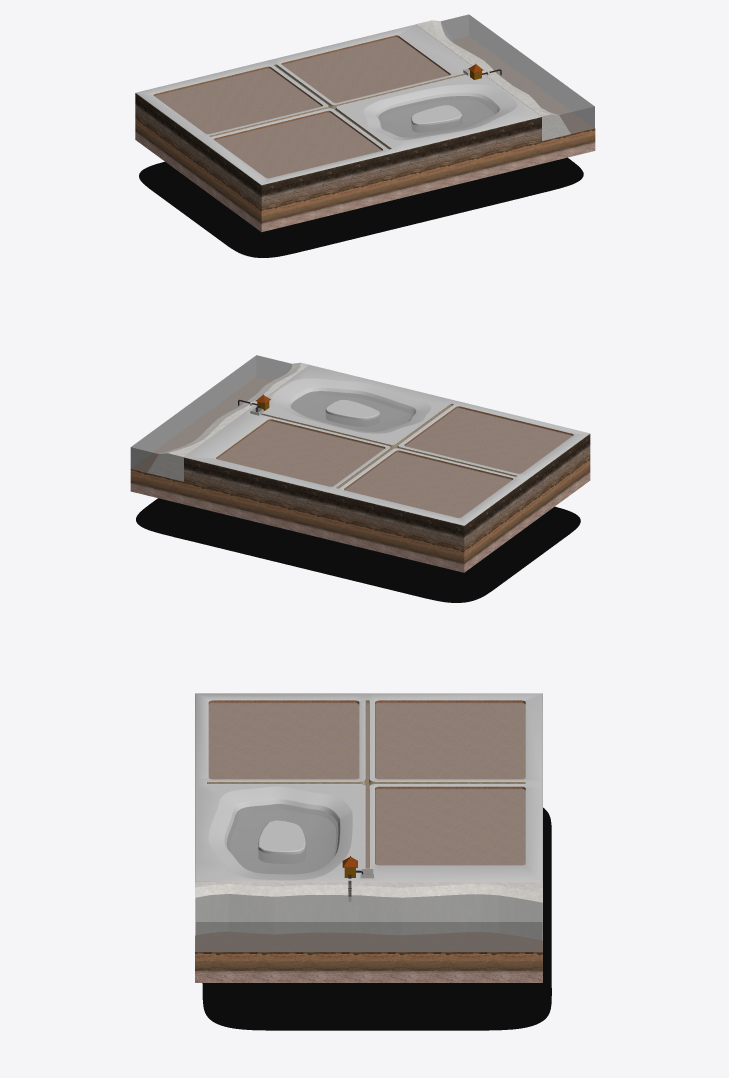
The model's file is GaoChun.FBX.
3 views of the same model, one above another, from view 1: azimuth 30°, elevation 25°; view 2: azimuth 150°, elevation 25°; view 3: azimuth 270°, elevation 25° (orthographic). The views are drawn at different scales.
Parts seen in each view (by area): view 1: SoilLayer, RiceSoil, RiceWater, Terrain_Shadow, Terrain, RiverWater, LakeSoil (×2), Pool, LakeWater, RiverBank, Line010, PenStock01 (+1 smaller); view 2: SoilLayer, RiceSoil, RiceWater, Terrain_Shadow, Terrain, RiverWater, LakeSoil (×2), Pool, LakeWater, RiverBank, Line010, PenStock01 (+1 smaller); view 3: RiceSoil, RiceWater, RiverWater, RiverBank, Terrain_Shadow, Terrain, SoilLayer, LakeSoil (×2), Pool, LakeWater, Line010, PenStock (+2 smaller).
Part boxes in pixels (box(x1,y1,x2,y2)): SoilLayer: box(135, 93, 595, 232); RiceSoil: box(153, 35, 450, 177); RiceWater: box(154, 37, 449, 178); Terrain_Shadow: box(139, 157, 583, 257); Terrain: box(136, 24, 541, 185); RiverWater: box(440, 14, 594, 133); LakeSoil (×2): box(381, 36, 594, 136); Pool: box(363, 84, 517, 140); LakeWater: box(378, 96, 497, 137); RiverBank: box(416, 20, 570, 140); Line010: box(411, 105, 462, 132); PenStock01: box(209, 64, 464, 149); SoilLayer: box(130, 434, 590, 572); RiceSoil: box(216, 406, 573, 517); RiceWater: box(217, 408, 572, 517); Terrain_Shadow: box(136, 498, 580, 602); Terrain: box(184, 365, 589, 525); RiverWater: box(130, 355, 292, 472); LakeSoil (×2): box(131, 377, 410, 472); Pool: box(272, 378, 431, 433); LakeWater: box(291, 391, 413, 431); RiverBank: box(147, 362, 309, 481); Line010: box(325, 399, 379, 426); PenStock01: box(262, 403, 517, 488); RiceSoil: box(208, 700, 525, 864); RiceWater: box(208, 702, 525, 865); RiverWater: box(195, 894, 542, 951); RiverBank: box(195, 882, 542, 940); Terrain_Shadow: box(202, 807, 551, 1030); Terrain: box(195, 693, 542, 881); SoilLayer: box(195, 952, 542, 982); LakeSoil (×2): box(195, 810, 542, 951); Pool: box(208, 786, 352, 880); LakeWater: box(226, 804, 338, 874); Line010: box(258, 820, 305, 863); PenStock: box(206, 700, 526, 868).
Size of what is drawn, in the model's own units: 12395 by 2474 by 12205.
